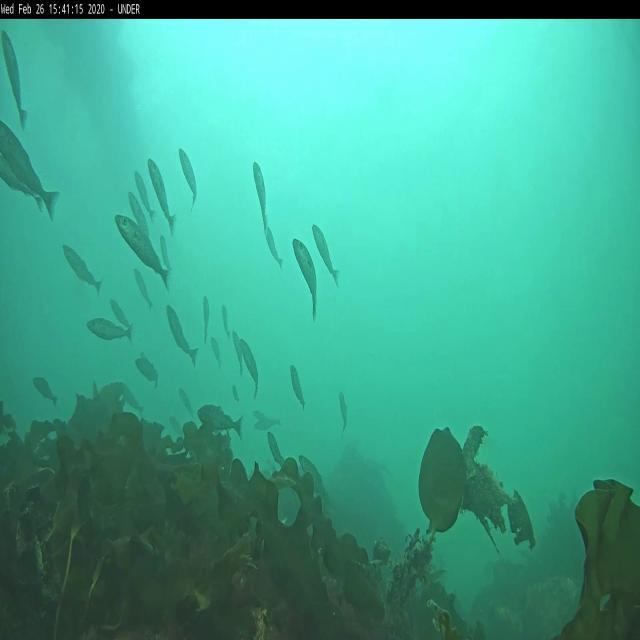fish: (1, 119, 59, 212), (115, 216, 170, 292), (2, 29, 23, 124), (293, 239, 318, 318), (162, 305, 195, 360), (63, 244, 99, 293), (311, 226, 339, 285), (200, 406, 243, 441), (87, 319, 137, 343), (134, 170, 158, 218), (178, 151, 198, 205), (116, 379, 146, 414), (130, 269, 154, 311), (264, 226, 284, 268), (34, 374, 58, 406), (243, 339, 258, 390), (253, 163, 265, 225), (267, 431, 287, 466), (107, 296, 130, 326), (128, 190, 145, 230), (290, 362, 304, 407), (136, 358, 158, 383), (158, 232, 170, 274), (340, 389, 350, 436), (232, 332, 242, 370), (179, 388, 192, 416), (202, 298, 211, 338), (214, 338, 224, 372), (222, 302, 230, 334), (250, 408, 268, 421), (253, 420, 278, 428), (234, 386, 239, 401)
